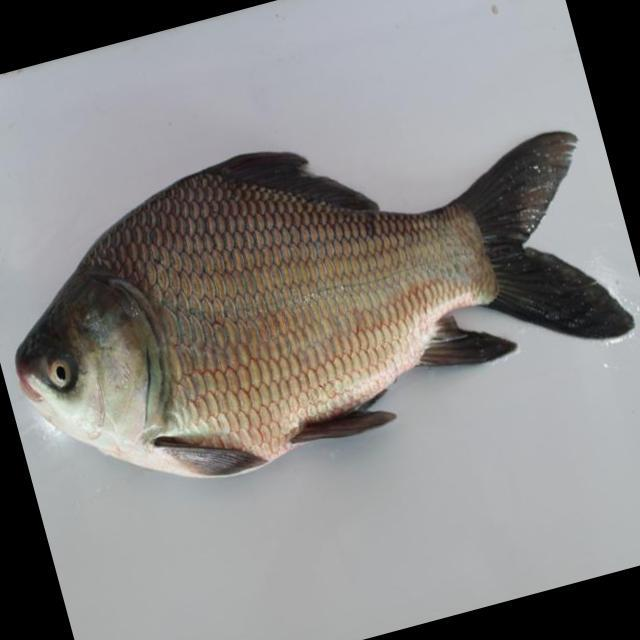Catla: (12, 128, 637, 480)
